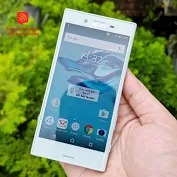sony: (28, 4, 137, 175)
